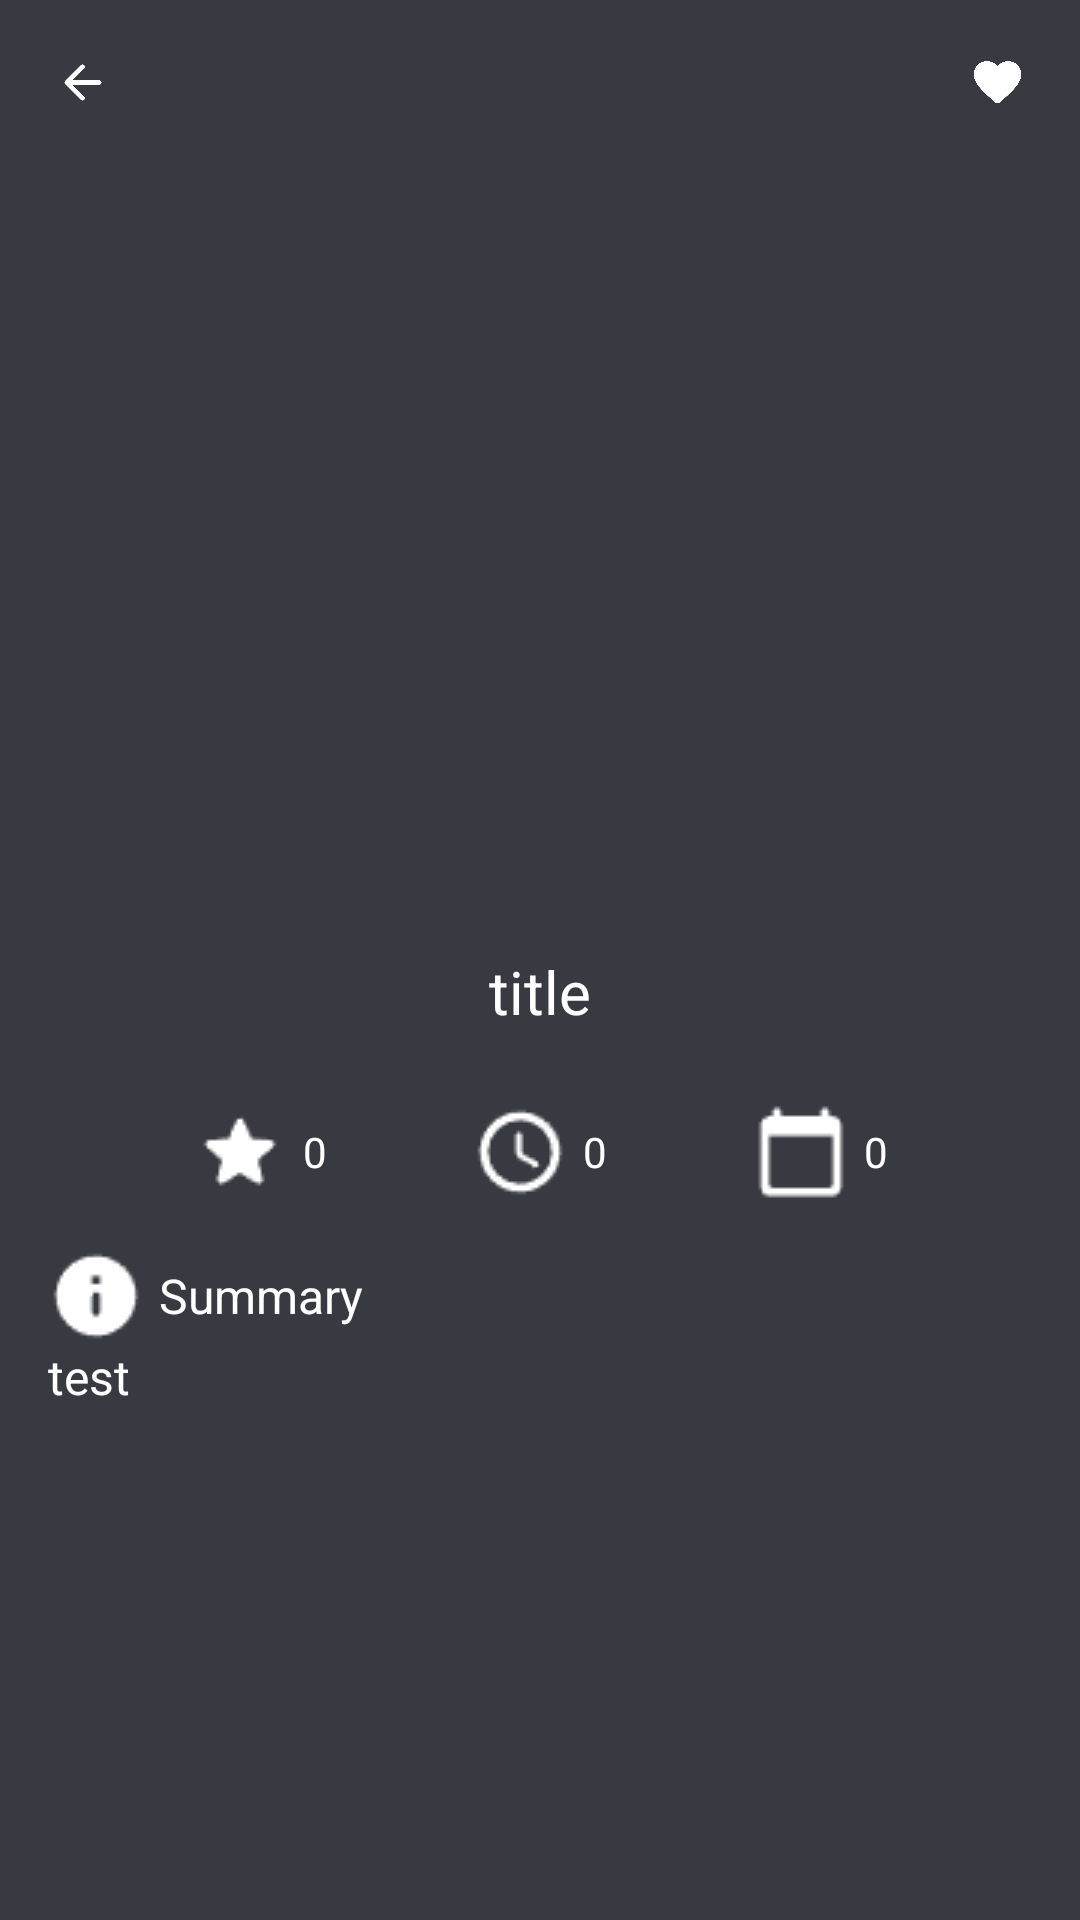

Where to tap for icons on this 1080px×1920px app screen, as point (x, y):
arrow back: point (83, 82)
favorite: point (997, 82)
